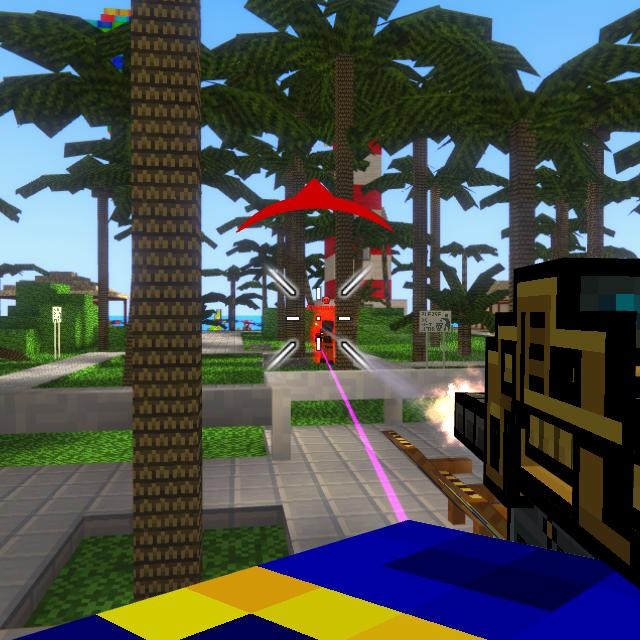Enemy: (314, 320, 334, 365)
